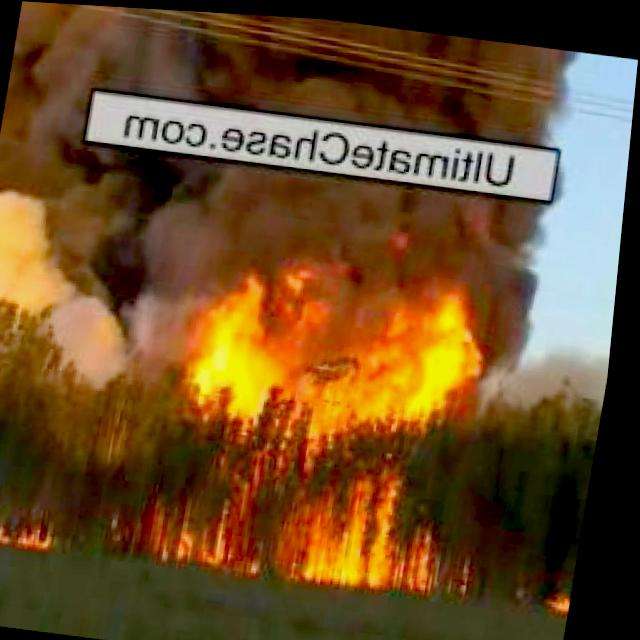Fire: (165, 238, 497, 586), (0, 511, 66, 550), (559, 575, 584, 605)
Smoke: (0, 130, 630, 451), (8, 1, 576, 143)
